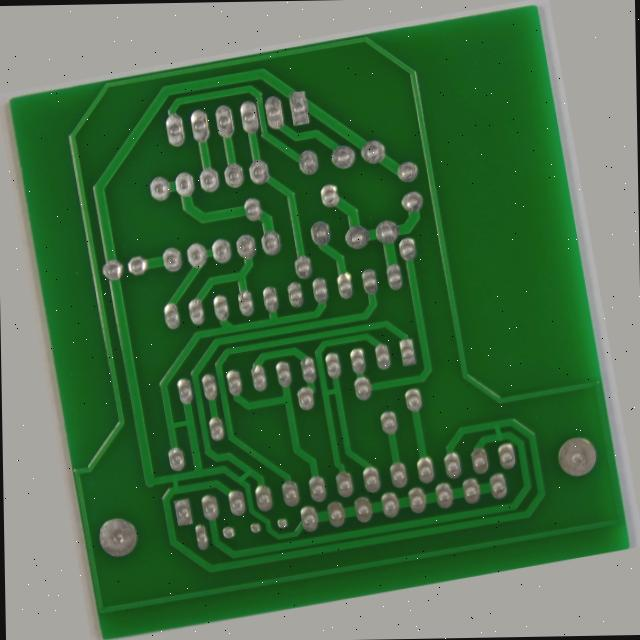short: (122, 400, 163, 423), (190, 468, 223, 495), (487, 461, 512, 494), (303, 391, 334, 414), (114, 463, 139, 491)
